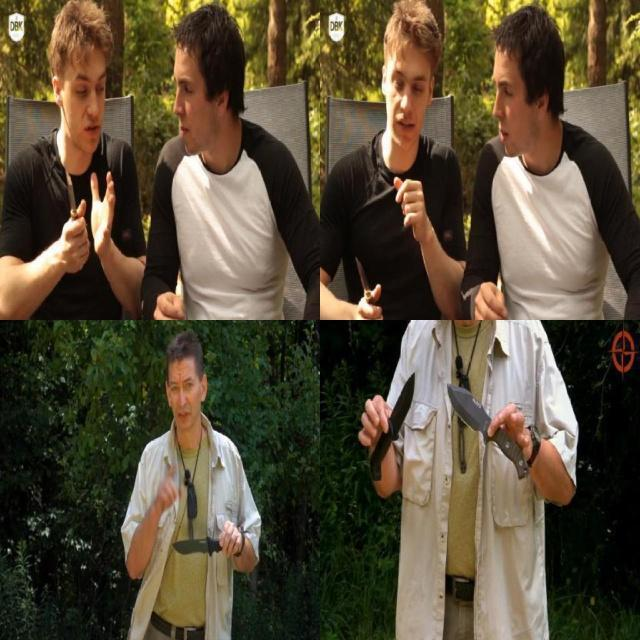-: (445, 377, 530, 481), (368, 367, 417, 483), (169, 517, 237, 559), (59, 155, 90, 244), (352, 245, 383, 319)
